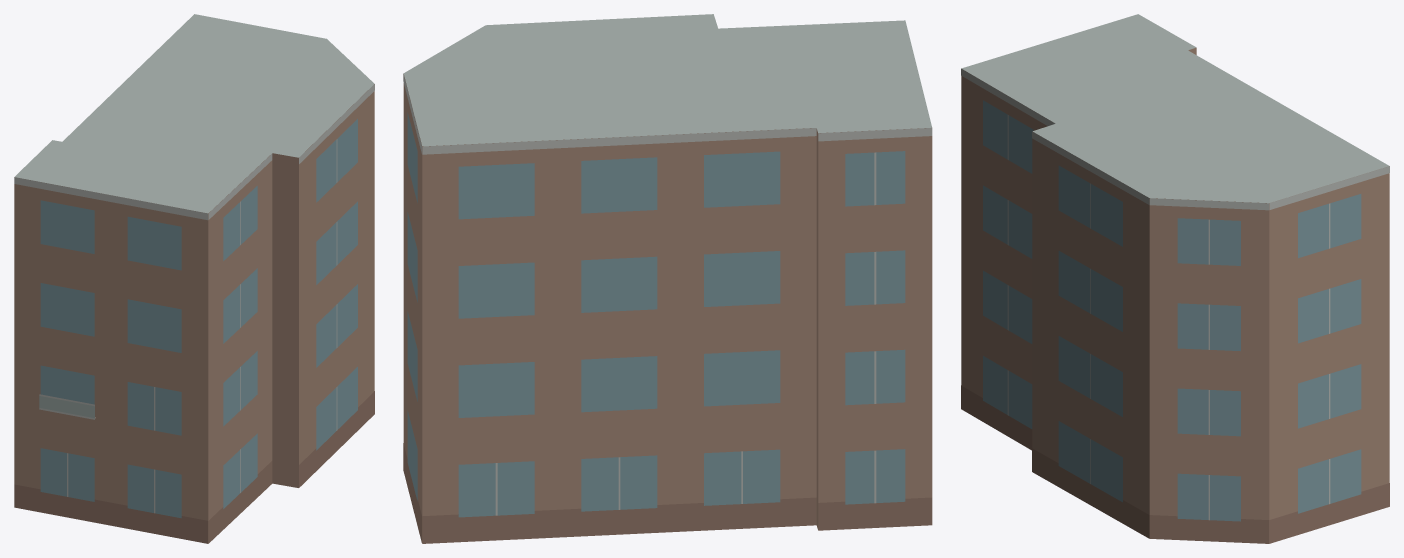
The model's file is survey-upis-32541152.glb.
3 views of the same model, side by side, from view 1: azimuth 30°, elevation 25°; view 2: azimuth 150°, elevation 25°; view 3: azimuth 270°, elevation 25° (orthographic). The views are drawn at different scales.
Visible parts, largest first — view 1: survey-upis-32541152.tmp; view 2: survey-upis-32541152.tmp; view 3: survey-upis-32541152.tmp.
Part boxes in pixels (left/top/right/bottom): survey-upis-32541152.tmp: left=14, top=14, right=374, bottom=543; survey-upis-32541152.tmp: left=403, top=14, right=932, bottom=543; survey-upis-32541152.tmp: left=961, top=14, right=1389, bottom=543.
Bounding box in the file's own units: 13.95 × 11.7 × 13.35.
